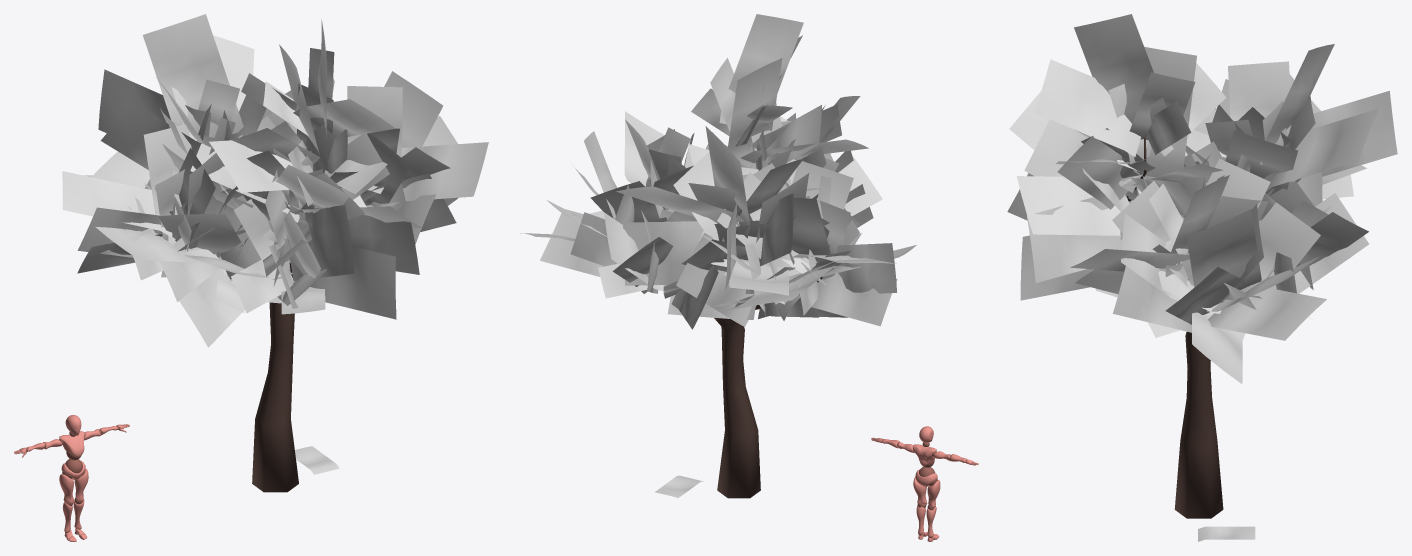
Rendered from 3DTechnik_Tree.fbx.
3 renders of one model, left to right at view 1: azimuth 30°, elevation 25°; view 2: azimuth 150°, elevation 25°; view 3: azimuth 270°, elevation 25°, orthographic. The views are drawn at different scales.
Parts seen in each view (by area): view 1: Cylinder.002, Cylinder.002|Leaf|Dupli|111, Cylinder.002|Leaf|Dupli|141, Cylinder.002|Leaf|Dupli|17, Cylinder.002|Leaf|Dupli|57, Cylinder.002|Leaf|Dupli|144, Beta_Surface, Cylinder.002|Leaf|Dupli|160, Cylinder.002|Leaf|Dupli|125, Cylinder.002|Leaf|Dupli|65, Cylinder.002|Leaf|Dupli|119, Cylinder.002|Leaf|Dupli|74 (+46 smaller); view 2: Cylinder.002, Cylinder.002|Leaf|Dupli|167, Cylinder.002|Leaf|Dupli|176, Cylinder.002|Leaf|Dupli|113, Cylinder.002|Leaf|Dupli|61, Cylinder.002|Leaf|Dupli|50, Beta_Surface, Cylinder.002|Leaf|Dupli|97, Cylinder.002|Leaf|Dupli|54, Cylinder.002|Leaf|Dupli|111, Cylinder.002|Leaf|Dupli|82, Cylinder.002|Leaf|Dupli|119 (+28 smaller); view 3: Cylinder.002, Cylinder.002|Leaf|Dupli|180, Cylinder.002|Leaf|Dupli|167, Cylinder.002|Leaf|Dupli|153, Cylinder.002|Leaf|Dupli|74, Cylinder.002|Leaf|Dupli|71, Cylinder.002|Leaf|Dupli|123, Cylinder.002|Leaf|Dupli|160, Cylinder.002|Leaf|Dupli|124, Cylinder.002|Leaf|Dupli|125, Cylinder.002|Leaf|Dupli|72, Cylinder.002|Leaf|Dupli|75 (+39 smaller).
Part boxes in pixels (left/top/right/bottom): Cylinder.002: left=252, top=263, right=298, bottom=492; Cylinder.002|Leaf|Dupli|111: left=142, top=14, right=243, bottom=137; Cylinder.002|Leaf|Dupli|141: left=310, top=246, right=396, bottom=319; Cylinder.002|Leaf|Dupli|17: left=401, top=142, right=488, bottom=201; Cylinder.002|Leaf|Dupli|57: left=62, top=171, right=172, bottom=236; Cylinder.002|Leaf|Dupli|144: left=290, top=205, right=354, bottom=280; Beta_Surface: left=14, top=415, right=129, bottom=541; Cylinder.002|Leaf|Dupli|160: left=348, top=215, right=419, bottom=274; Cylinder.002|Leaf|Dupli|125: left=98, top=69, right=211, bottom=136; Cylinder.002|Leaf|Dupli|65: left=179, top=268, right=244, bottom=347; Cylinder.002|Leaf|Dupli|119: left=100, top=102, right=198, bottom=170; Cylinder.002|Leaf|Dupli|74: left=384, top=71, right=442, bottom=147; Cylinder.002: left=714, top=277, right=822, bottom=498; Cylinder.002|Leaf|Dupli|167: left=719, top=14, right=803, bottom=124; Cylinder.002|Leaf|Dupli|176: left=727, top=58, right=782, bottom=166; Cylinder.002|Leaf|Dupli|113: left=622, top=221, right=703, bottom=285; Cylinder.002|Leaf|Dupli|61: left=833, top=243, right=896, bottom=293; Cylinder.002|Leaf|Dupli|50: left=811, top=273, right=897, bottom=326; Beta_Surface: left=871, top=426, right=978, bottom=541; Cylinder.002|Leaf|Dupli|97: left=676, top=233, right=756, bottom=326; Cylinder.002|Leaf|Dupli|54: left=765, top=197, right=834, bottom=279; Cylinder.002|Leaf|Dupli|111: left=705, top=126, right=750, bottom=238; Cylinder.002|Leaf|Dupli|82: left=540, top=209, right=604, bottom=276; Cylinder.002|Leaf|Dupli|119: left=759, top=193, right=793, bottom=266; Cylinder.002: left=1127, top=137, right=1223, bottom=518; Cylinder.002|Leaf|Dupli|180: left=1035, top=59, right=1140, bottom=156; Cylinder.002|Leaf|Dupli|167: left=1074, top=14, right=1166, bottom=139; Cylinder.002|Leaf|Dupli|153: left=1016, top=176, right=1126, bottom=235; Cylinder.002|Leaf|Dupli|74: left=1186, top=209, right=1261, bottom=289; Cylinder.002|Leaf|Dupli|71: left=1208, top=285, right=1326, bottom=340; Cylinder.002|Leaf|Dupli|123: left=1265, top=108, right=1379, bottom=192; Cylinder.002|Leaf|Dupli|160: left=1027, top=197, right=1122, bottom=282; Cylinder.002|Leaf|Dupli|124: left=1228, top=61, right=1290, bottom=120; Cylinder.002|Leaf|Dupli|125: left=1286, top=91, right=1397, bottom=176; Cylinder.002|Leaf|Dupli|72: left=1240, top=202, right=1320, bottom=291; Cylinder.002|Leaf|Dupli|75: left=1113, top=266, right=1191, bottom=332.
Size of the model in its own units: 954 by 976 by 682.
